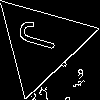J: (16, 18, 68, 55)
